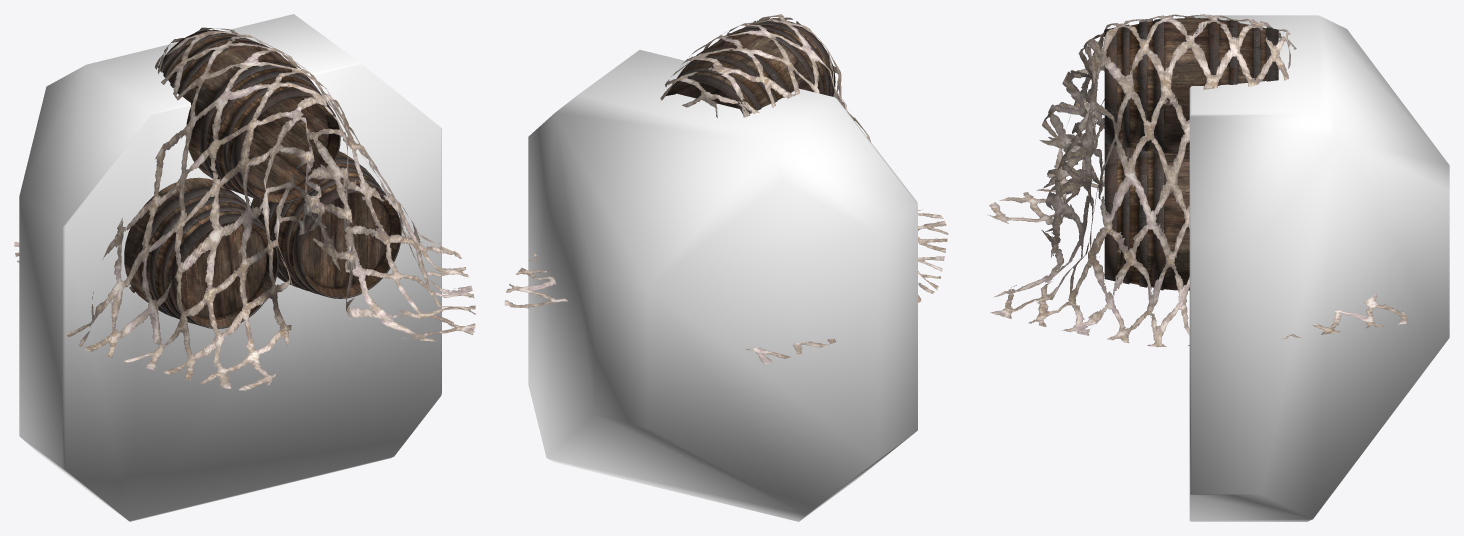
File: SM_BarrelsInNet_B.fbx
The picture shows the model from 3 angles, left to right: view 1: azimuth 30°, elevation 25°; view 2: azimuth 150°, elevation 25°; view 3: azimuth 270°, elevation 25°; orthographic projection. The views are drawn at different scales.
Visible parts, largest first — view 1: SM_BarrelsInNet_B_ConvexHulls, SM_BarrelsInNet_B; view 2: SM_BarrelsInNet_B_ConvexHulls, SM_BarrelsInNet_B; view 3: SM_BarrelsInNet_B_ConvexHulls, SM_BarrelsInNet_B.
Part boxes in pixels (bbox=[...]): SM_BarrelsInNet_B_ConvexHulls: bbox=[19, 14, 441, 521]; SM_BarrelsInNet_B: bbox=[14, 27, 475, 390]; SM_BarrelsInNet_B_ConvexHulls: bbox=[528, 50, 917, 521]; SM_BarrelsInNet_B: bbox=[504, 14, 948, 364]; SM_BarrelsInNet_B_ConvexHulls: bbox=[1189, 15, 1449, 521]; SM_BarrelsInNet_B: bbox=[987, 14, 1408, 347].
Bounding box in the file's own units: 2.45 × 2.74 × 2.71.
